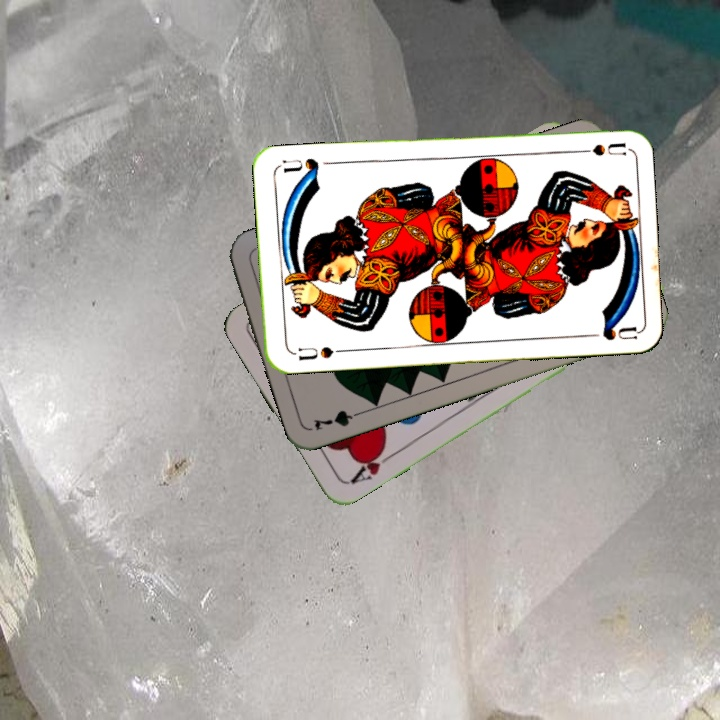G7: (309, 406, 368, 433)
HA: (343, 442, 396, 487)
SU: (288, 343, 348, 364), (567, 138, 627, 159)
